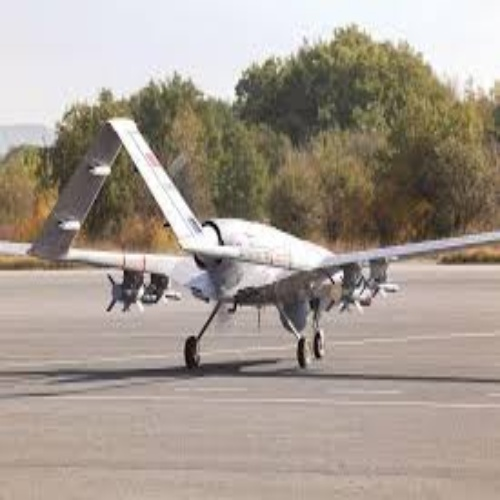uav407: (28, 116, 500, 375)
